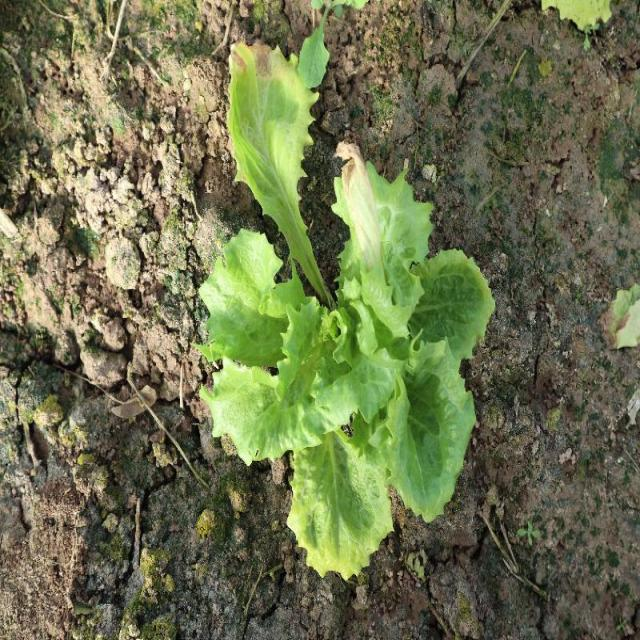crop: (198, 40, 495, 576)
